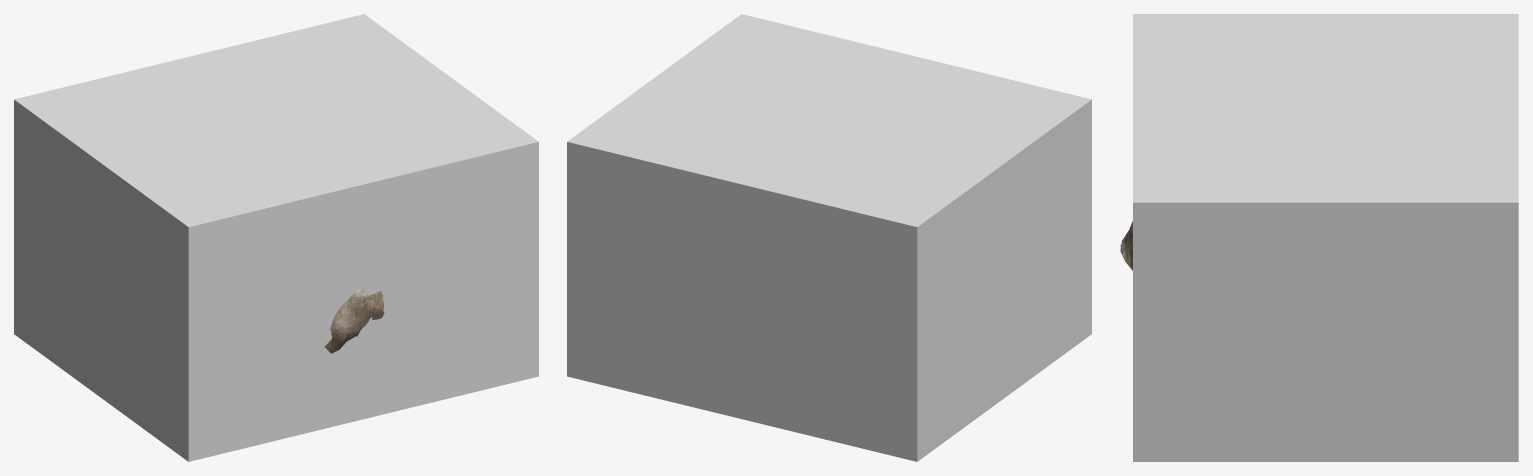
File: rock_dirt02.dae
3 views of the same model, side by side, from view 1: azimuth 30°, elevation 25°; view 2: azimuth 150°, elevation 25°; view 3: azimuth 270°, elevation 25° (orthographic). The views are drawn at different scales.
Parts seen in each view (by area): view 1: Untitled, rock_dirt02_a200, rock_dirt02_a50; view 2: Untitled; view 3: Untitled.
Part boxes in pixels (x1=…): Untitled: x1=14, y1=14, x2=538, y2=461; rock_dirt02_a200: x1=331, y1=289, x2=384, y2=350; rock_dirt02_a50: x1=324, y1=290, x2=384, y2=353; Untitled: x1=567, y1=14, x2=1091, y2=461; Untitled: x1=1133, y1=14, x2=1518, y2=461.
Size of the model in its own units: 3.37 by 3.01 by 2.16.
